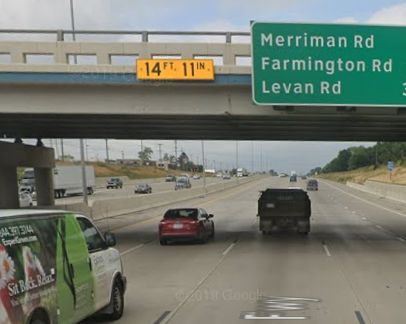1: (178, 60, 190, 78), (141, 59, 150, 78), (187, 61, 195, 79)
4: (150, 59, 163, 79)
overheadsign: (134, 56, 215, 82)
